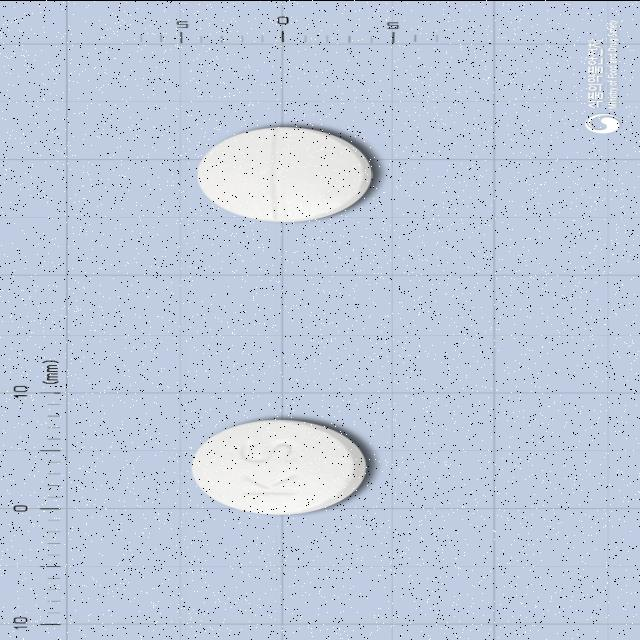Levofroxin: (192, 417, 369, 513)
